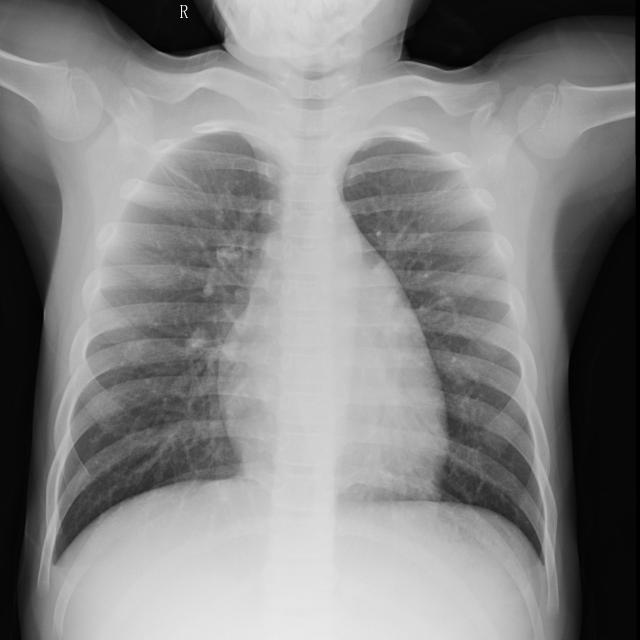no-pneumonia: (51, 134, 280, 556), (343, 141, 550, 559)
